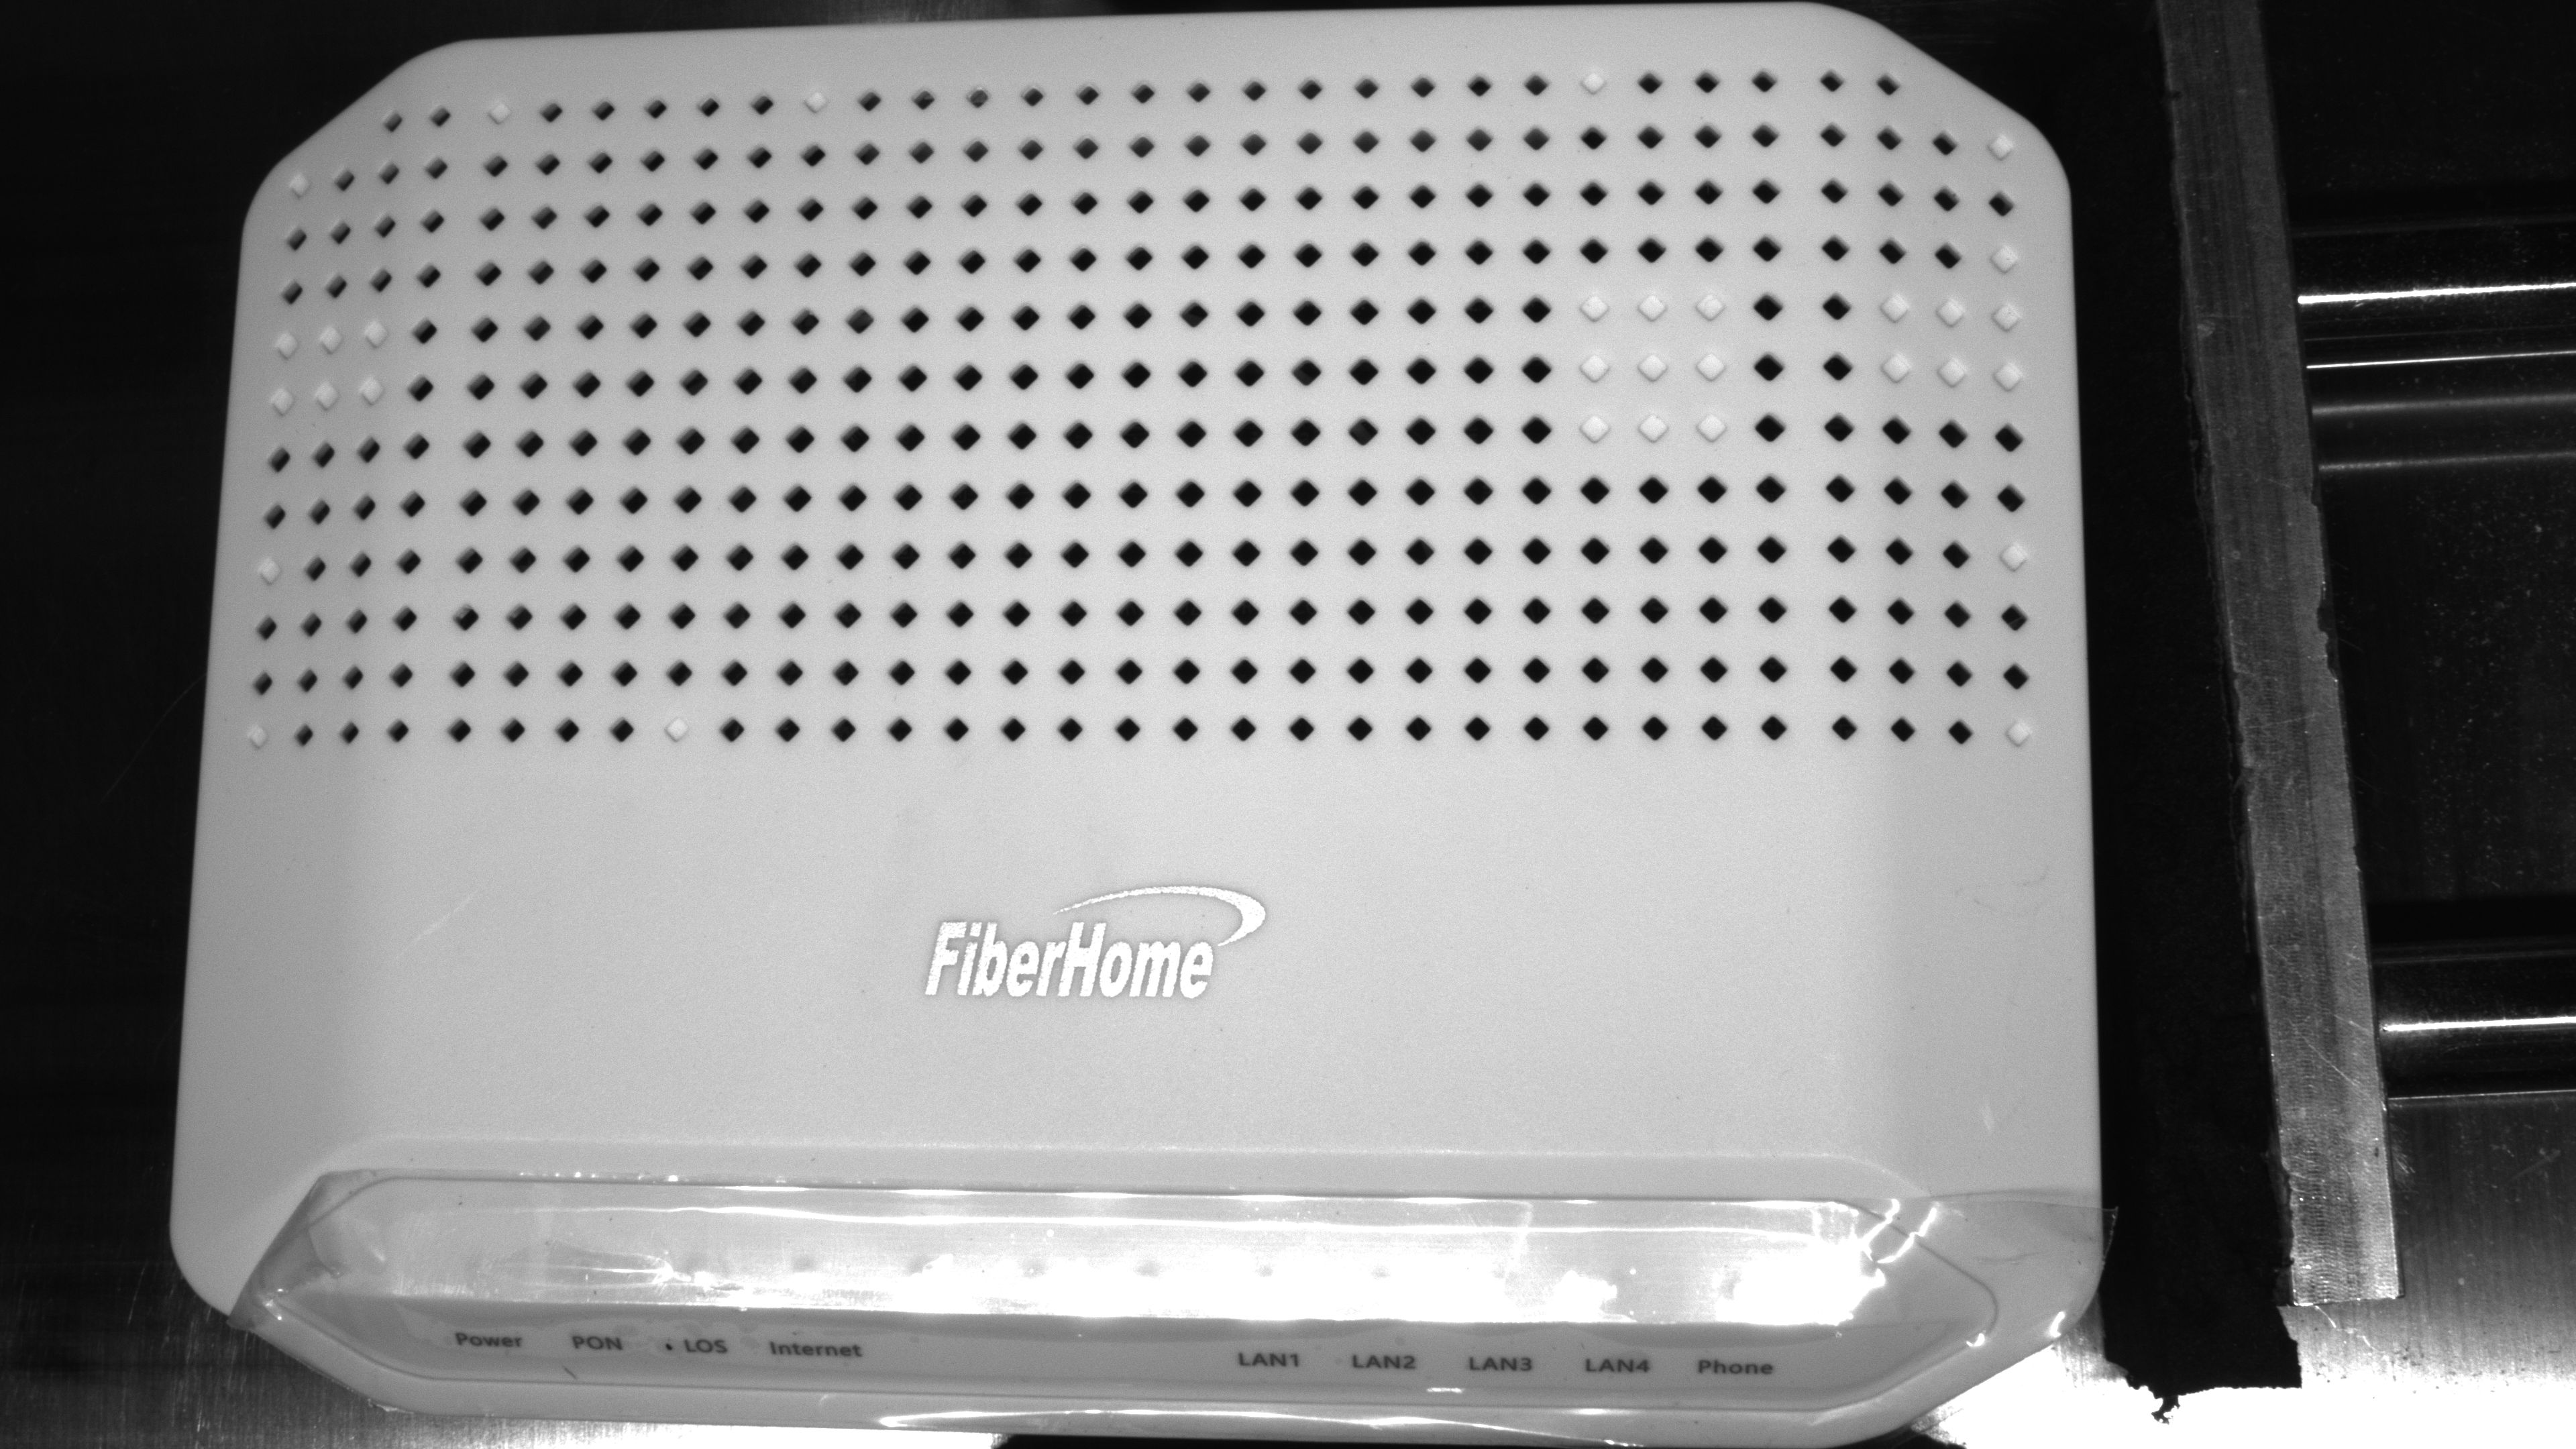AI_FiberHome: (856, 840, 1322, 1044)
